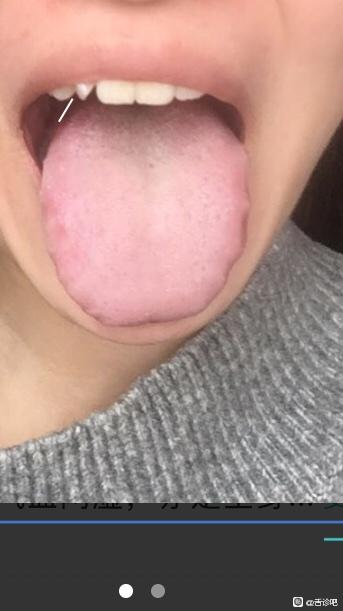baitaishe: (39, 91, 250, 327)
chihenshe: (39, 216, 86, 311), (209, 205, 250, 303)
pangdashe: (39, 91, 250, 327)
